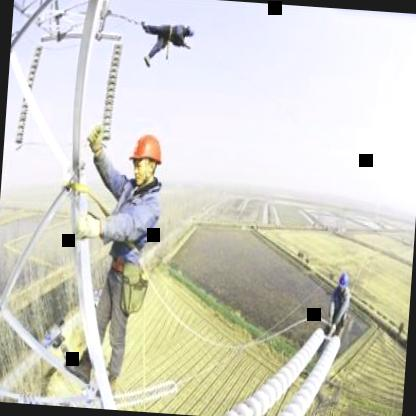helmet: (127, 131, 166, 188), (336, 268, 348, 294)
